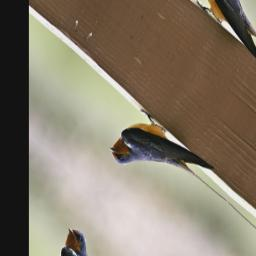Swallow: (106, 97, 235, 243)
